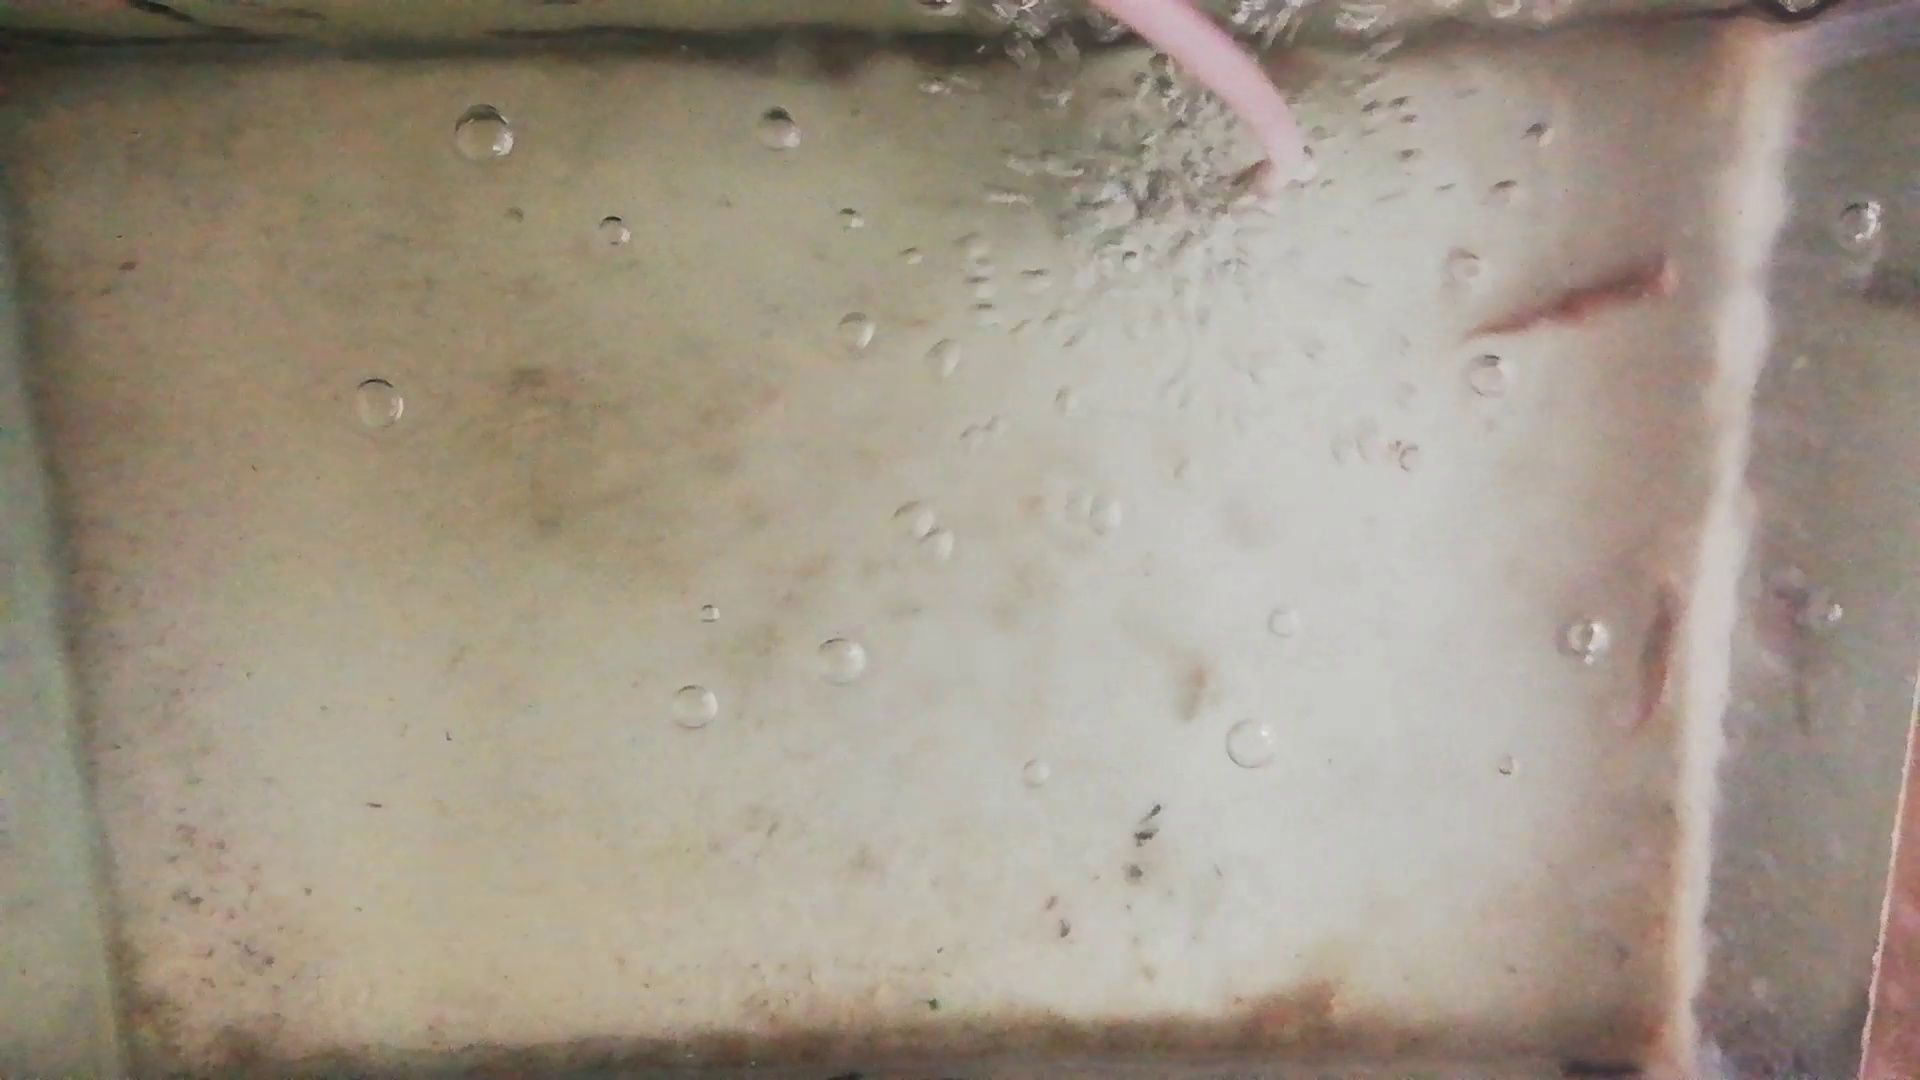fish: (1474, 255, 1681, 336), (1633, 579, 1681, 732)
